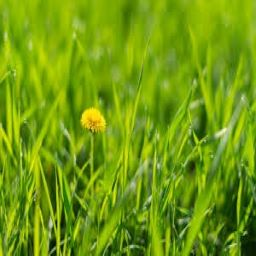grass: (2, 5, 250, 250)
